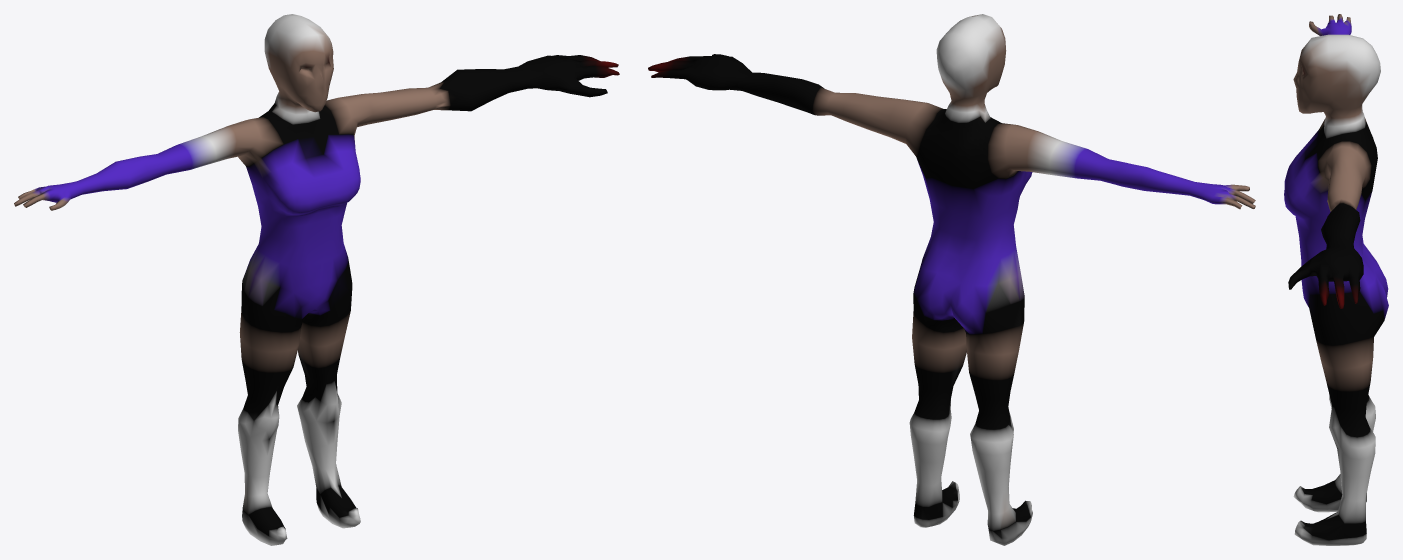
The model's file is irisBody.fbx.
The picture shows the model from 3 angles, left to right: view 1: azimuth 30°, elevation 25°; view 2: azimuth 150°, elevation 25°; view 3: azimuth 270°, elevation 25°; orthographic projection. The views are drawn at different scales.
Visible parts, largest first — view 1: IrisBody; view 2: IrisBody; view 3: IrisBody.
Part boxes in pixels (x1,y1,x2,y2): IrisBody: (14,14,619,545); IrisBody: (648,14,1255,545); IrisBody: (1284,14,1388,545).
Size of the model in its own units: 308 by 247 by 47.79.
